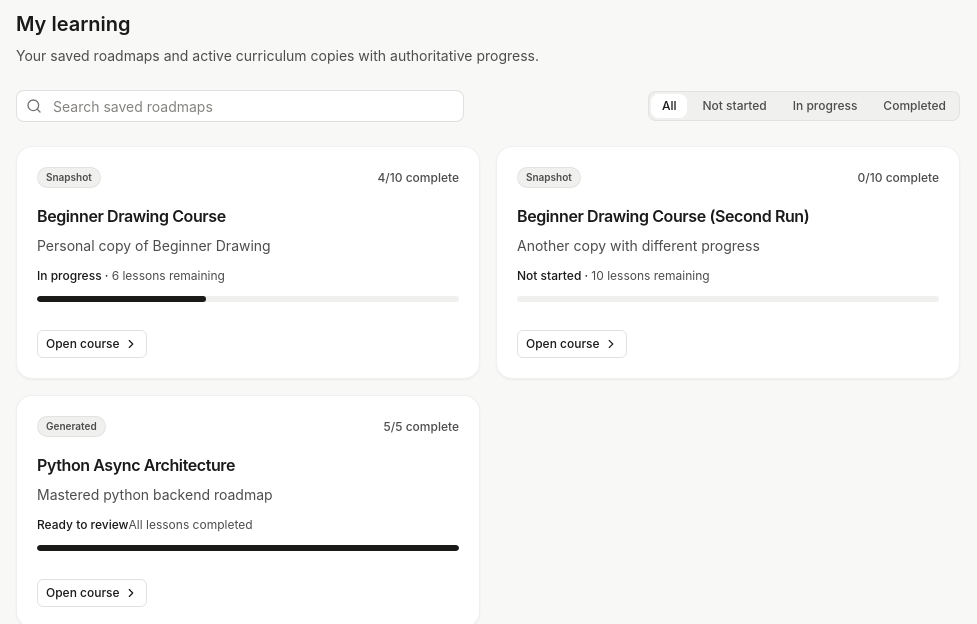
Test: StudioMyLearningView (LSI-006) › filters roadmaps by progress tab (not-started, in-progress, completed)
// Tab 1: not-started (ws_copy_2: 0/10)
Click the tab "Not started".
click(735, 106)  # box [692,94,778,118]
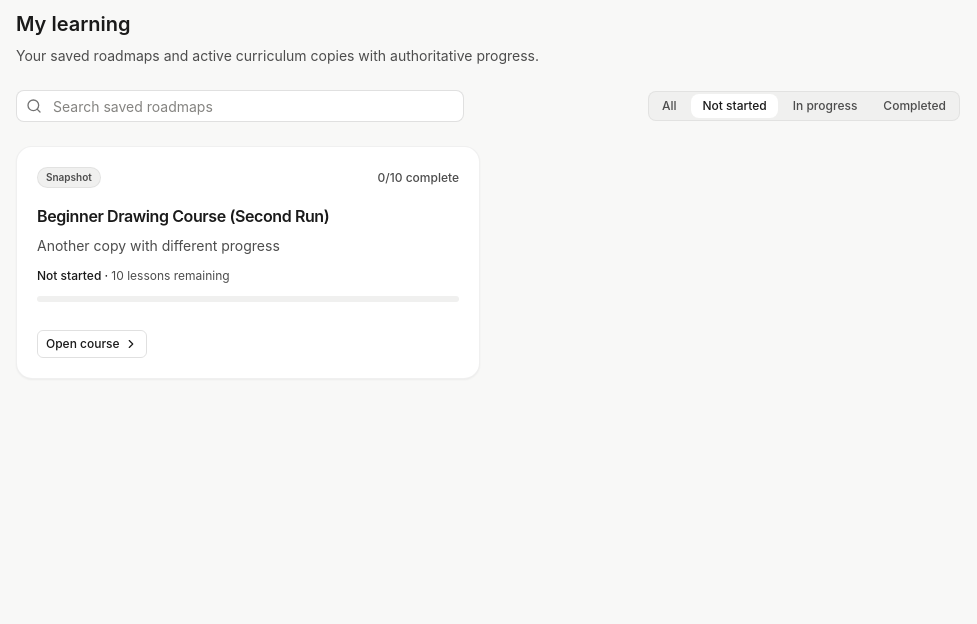
Check: the element with test id "workspace-curriculum-card-ws_copy_2" is shown, box [16,146,480,379]
Check: the element with test id "workspace-curriculum-card-ws_copy_1" is gone
// Tab 2: in-progress (ws_copy_1: 4/10)
Click the tab "In progress".
click(825, 106)  # box [782,94,868,118]
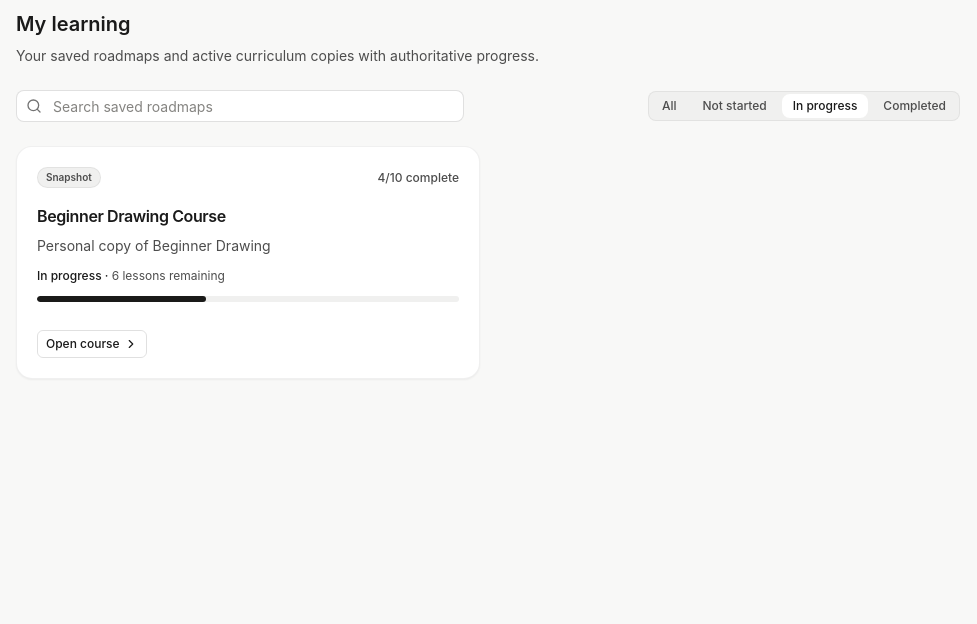
Check: the element with test id "workspace-curriculum-card-ws_copy_1" is shown, box [16,146,480,379]
Check: the element with test id "workspace-curriculum-card-ws_copy_2" is gone
// Tab 3: completed (ws_completed: 5/5)
Click the tab "Completed".
click(915, 106)  # box [872,94,957,118]
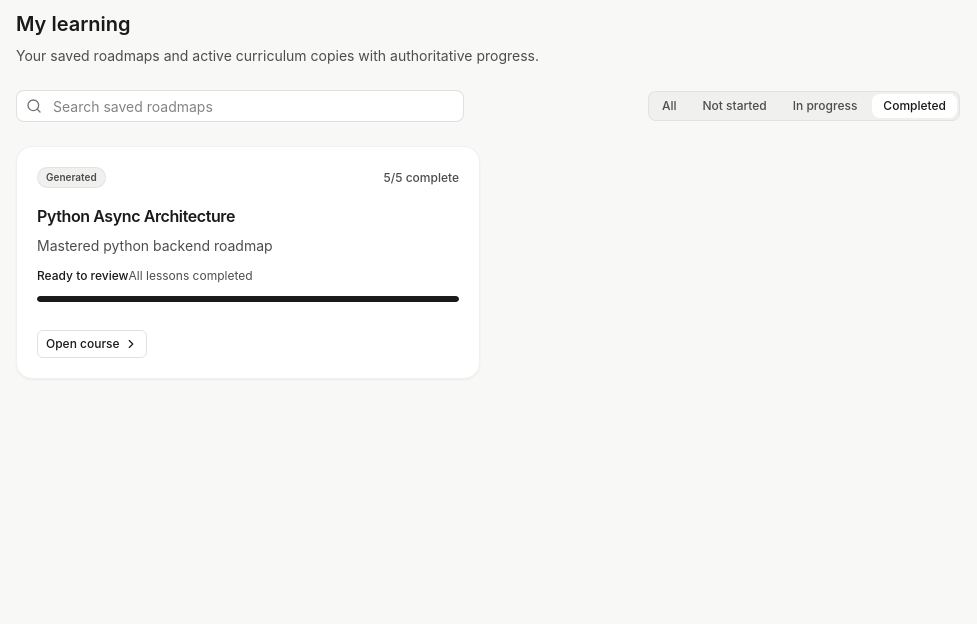
Check: the element with test id "workspace-curriculum-card-ws_completed" is shown, box [16,146,480,379]
Check: the element with test id "workspace-curriculum-card-ws_copy_1" is gone
